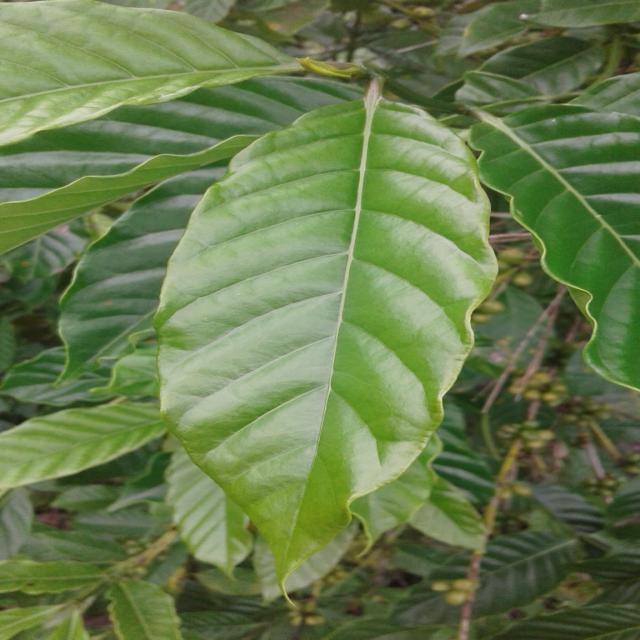Sanas: (154, 83, 500, 606)
